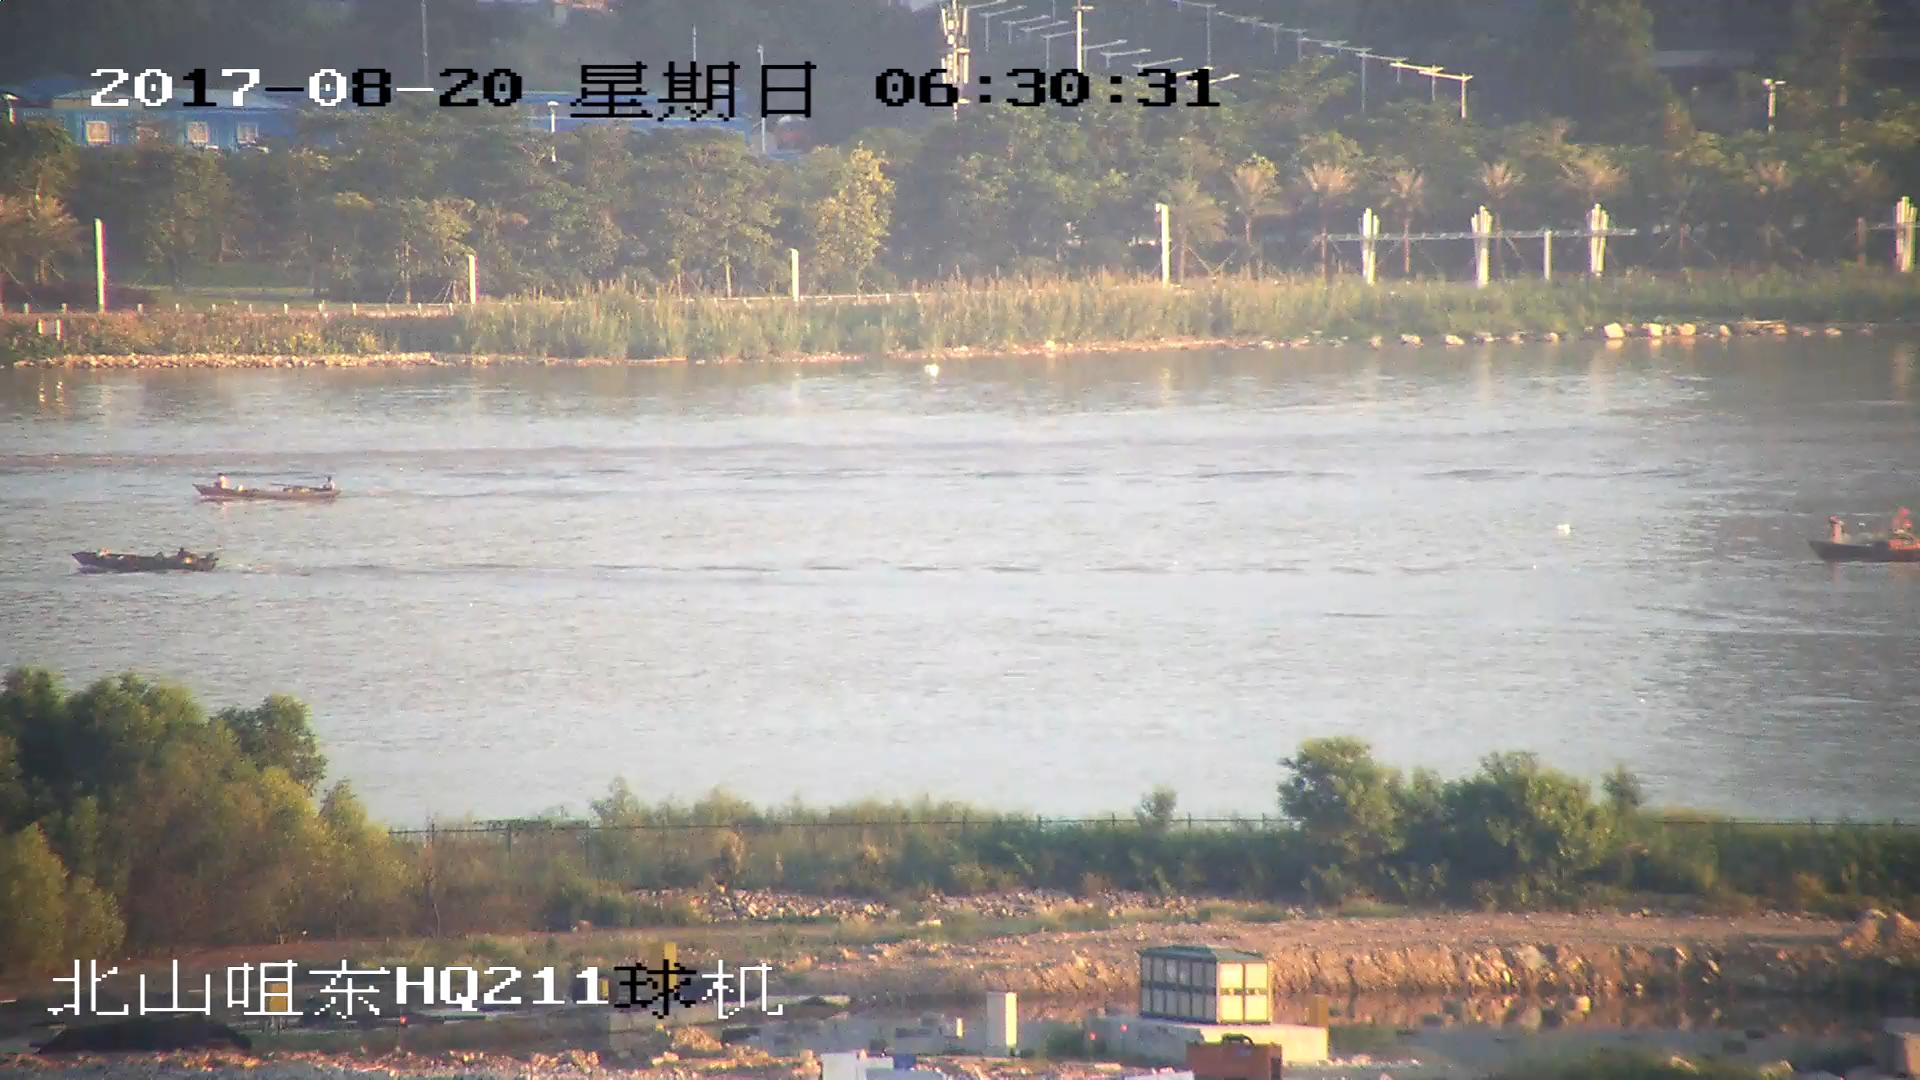fishing boat: (1810, 512, 1920, 560), (193, 471, 338, 503), (75, 545, 219, 571)
